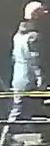helmet: (23, 1, 50, 20)
vest: (12, 25, 40, 90)
